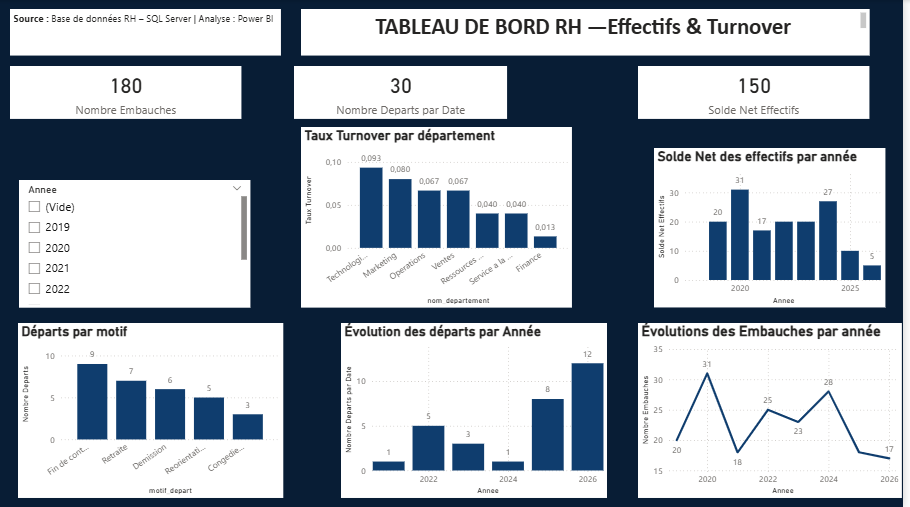

What the dashboard file says about the page in this screenshot:
{"tool":"powerbi","page":{"name":"Effectifs & Turnover","canvas":[1280,720],"ordinal":1},"visuals":[{"type":"clusteredColumnChart","title":"Départs par motif","fields":{"Category":["Employes.motif_depart"],"Y":["Employes.Nombre Departs"]},"box":[26.9,457.8,375.6,248],"z":0},{"type":"clusteredColumnChart","title":"Évolution des départs par Année","fields":{"Category":["Calendrier.Annee"],"Y":["Employes.Nombre Departs par Date"]},"box":[483.3,443.6,377,262.2],"z":1000},{"type":"lineChart","title":"Évolutions des Embauches par année","fields":{"Category":["Calendrier.Annee"],"Y":["Employes.Nombre Embauches"]},"box":[905.7,457.8,374.2,248],"z":2000},{"type":"card","fields":{"Values":["Employes.Nombre Embauches"]},"box":[15.8,93.6,328.3,74.9],"z":3000},{"type":"card","fields":{"Values":["Employes.Nombre Departs par Date"]},"box":[417.6,93.6,302.4,74.9],"z":4000},{"type":"card","fields":{"Values":["Employes.Solde Net Effectifs"]},"box":[905.8,93.6,328.3,74.9],"z":5000},{"type":"slicer","fields":{"Values":["Calendrier.Annee"]},"box":[28.8,254.9,328.3,181.4],"z":6000},{"type":"clusteredColumnChart","title":"Taux Turnover par département","fields":{"Category":["Departements.nom_departement"],"Y":["Employes.Taux Turnover"]},"box":[427.7,180,384.5,256.3],"z":7000},{"type":"clusteredColumnChart","title":"Solde Net des effectifs par année","fields":{"Category":["Calendrier.Annee"],"Y":["Employes.Solde Net Effectifs"]},"box":[928.8,210.2,328.3,226.1],"z":8000},{"type":"textbox","box":[427.7,13,806.4,66.2],"z":9000},{"type":"textbox","box":[15.6,12.8,386.9,66.6],"z":10000}]}

Visuals, with their boxes in screenshot pixels (x1, y1, x2, y2), scaled from the page's 1280x720 canvas onto the 910x507 screenshot:
"Départs par motif" clusteredColumnChart: box=[19, 322, 286, 497]
"Évolution des départs par Année" clusteredColumnChart: box=[344, 312, 612, 497]
"Évolutions des Embauches par année" lineChart: box=[644, 322, 909, 497]
card - Employes.Nombre Embauches: box=[11, 66, 245, 119]
card - Employes.Nombre Departs par Date: box=[297, 66, 512, 119]
card - Employes.Solde Net Effectifs: box=[644, 66, 877, 119]
slicer - Calendrier.Annee: box=[20, 179, 254, 307]
"Taux Turnover par département" clusteredColumnChart: box=[304, 127, 577, 307]
"Solde Net des effectifs par année" clusteredColumnChart: box=[660, 148, 894, 307]
textbox: box=[304, 9, 877, 56]
textbox: box=[11, 9, 286, 56]
